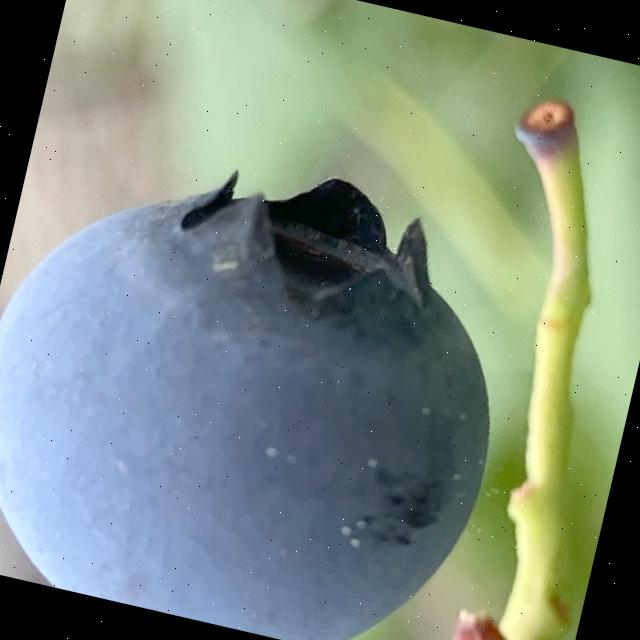Blueberries: (0, 109, 542, 640)
